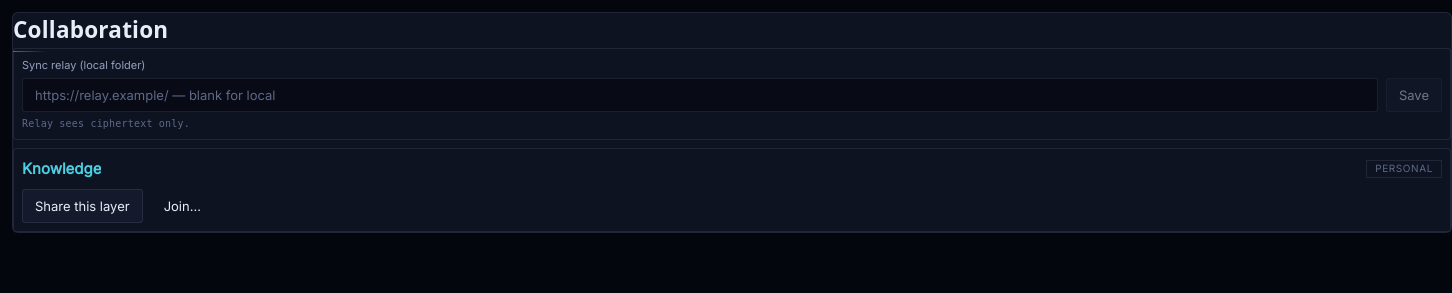
CollaborationPanel › shares a personal layer and reveals its invite handle
expect the text "Knowledge" is shown: met, box [22,157,102,181]
What coordinates should you click on to do the following:
click the button "Share this layer"
I would click on:
 (82, 206)
Its box is [22,189,143,223].
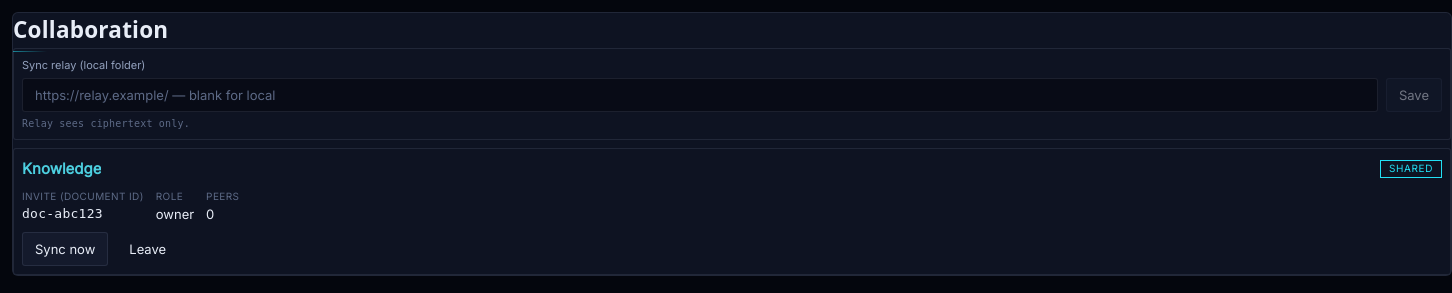
expect the text "doc-abc123" is shown: met, box [22,206,103,221]
expect the text "shared" is shown: met, box [1380,160,1442,178]
expect the button "Sync now" is shown: met, box [22,232,108,266]
